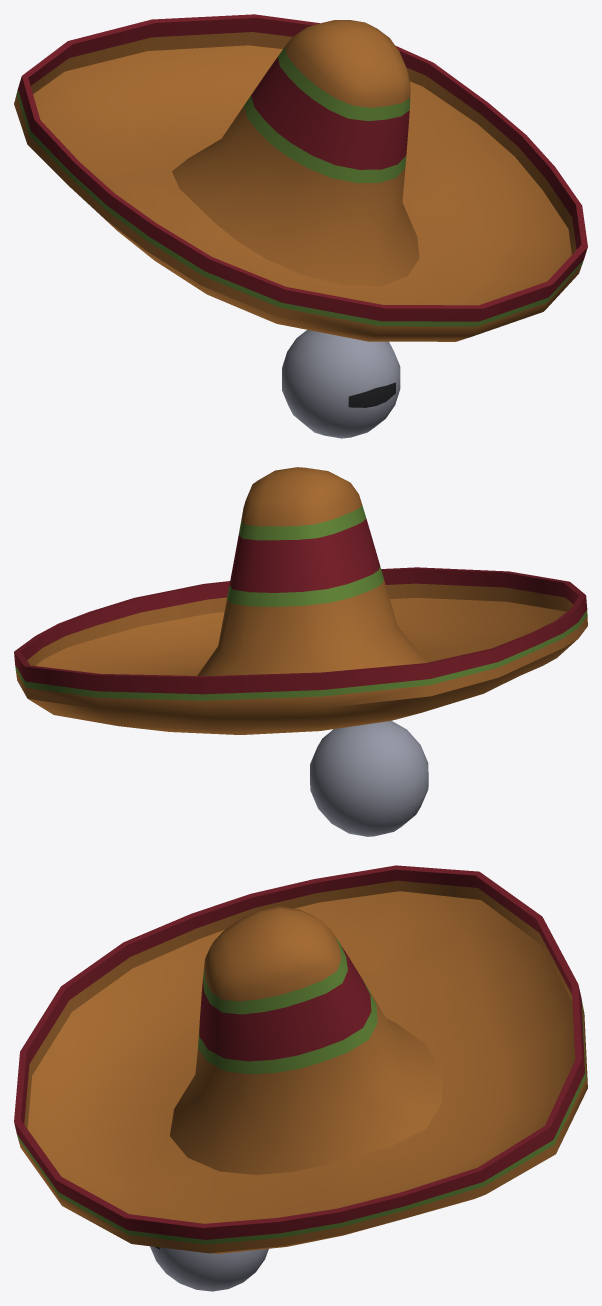
File: Cactoro_Blob.001.fbx
3 views of the same model, one above another, from view 1: azimuth 30°, elevation 25°; view 2: azimuth 150°, elevation 25°; view 3: azimuth 270°, elevation 25° (orthographic). The views are drawn at different scales.
Parts seen in each view (by area): view 1: Cactoro_Blob.001; view 2: Cactoro_Blob.001; view 3: Cactoro_Blob.001.
Part boxes in pixels (bbox=[...]): Cactoro_Blob.001: bbox=[14, 14, 587, 438]; Cactoro_Blob.001: bbox=[14, 467, 587, 836]; Cactoro_Blob.001: bbox=[14, 865, 587, 1291].
Size of the model in its own units: 202 by 154 by 207.
